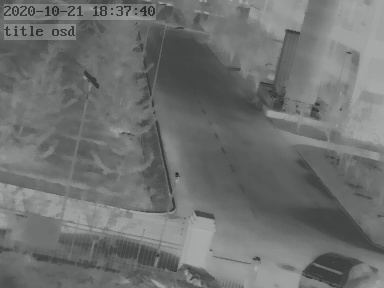vehicle: (297, 252, 384, 288)
